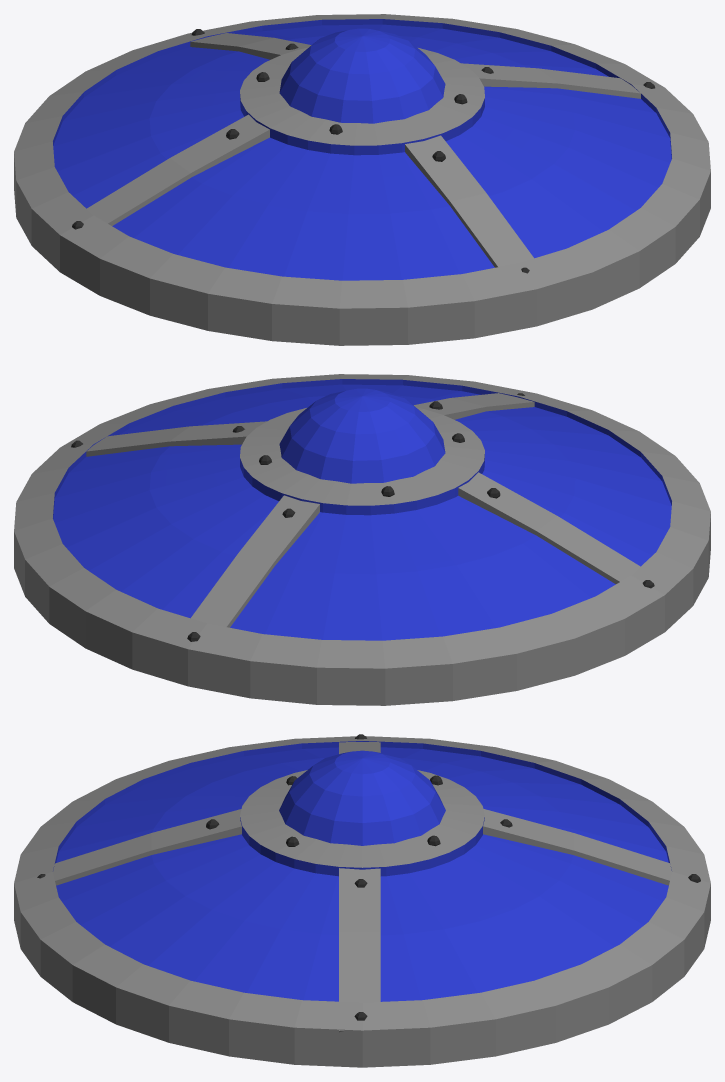
The model's file is ShieldUV.fbx.
3 renders of one model, top to bottom at view 1: azimuth 30°, elevation 25°; view 2: azimuth 150°, elevation 25°; view 3: azimuth 270°, elevation 25°, orthographic.
Parts seen in each view (by area): view 1: Cylinder; view 2: Cylinder; view 3: Cylinder.
Boxes of the visible parts, x1,y1,x2,y2 form: Cylinder: (14,14,710,345); Cylinder: (14,374,710,705); Cylinder: (14,734,710,1067).
Size of the model in its own units: 200 by 51.28 by 200.
